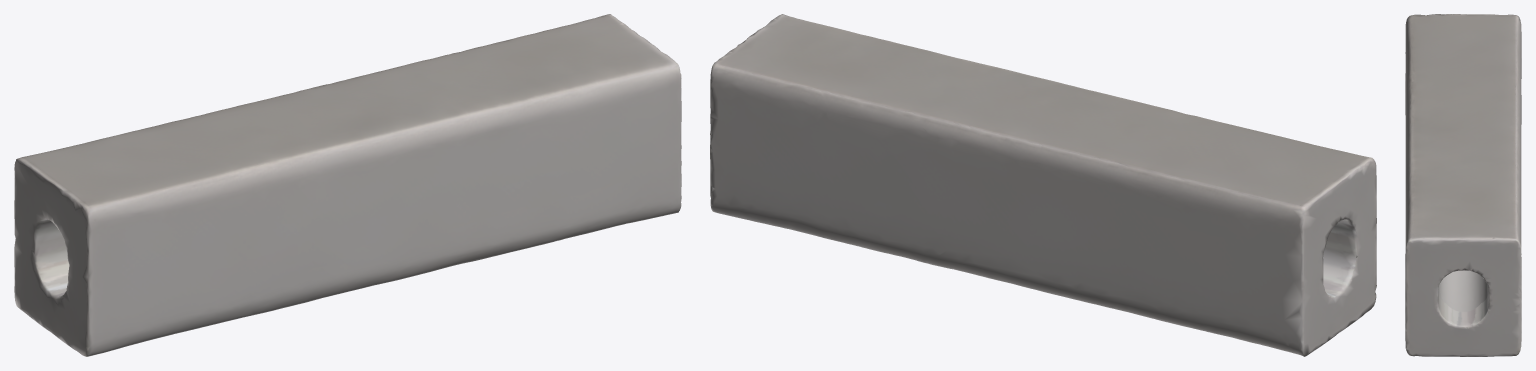
Rendered from base_basic_pbr.glb.
3 renders of one model, left to right at view 1: azimuth 30°, elevation 25°; view 2: azimuth 150°, elevation 25°; view 3: azimuth 270°, elevation 25°, orthographic. The views are drawn at different scales.
Parts seen in each view (by area): view 1: model; view 2: model; view 3: model.
Boxes of the visible parts, x1,y1,x2,y2 form: model: (14, 14, 681, 356); model: (710, 14, 1376, 356); model: (1405, 14, 1521, 356).
Size of the model in its own units: 1.9 by 0.4647 by 0.4133.
Materials: 1 (1 with a texture image).
